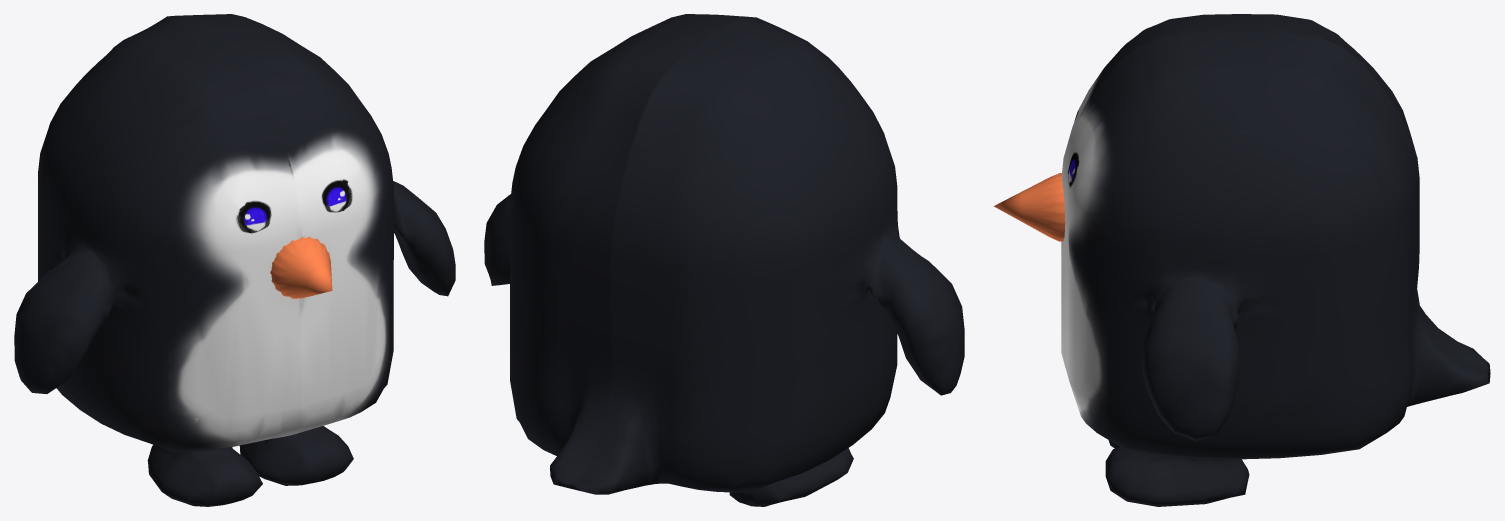
File: Penguin.fbx
The picture shows the model from 3 angles, left to right: view 1: azimuth 30°, elevation 25°; view 2: azimuth 150°, elevation 25°; view 3: azimuth 270°, elevation 25°; orthographic projection. The views are drawn at different scales.
Parts seen in each view (by area): view 1: Mesh; view 2: Mesh; view 3: Mesh.
Boxes of the visible parts, x1,y1,x2,y2 form: Mesh: (14,14,455,506); Mesh: (484,14,964,506); Mesh: (994,14,1490,506).
Size of the model in its own units: 23.18 by 22.01 by 22.48.
